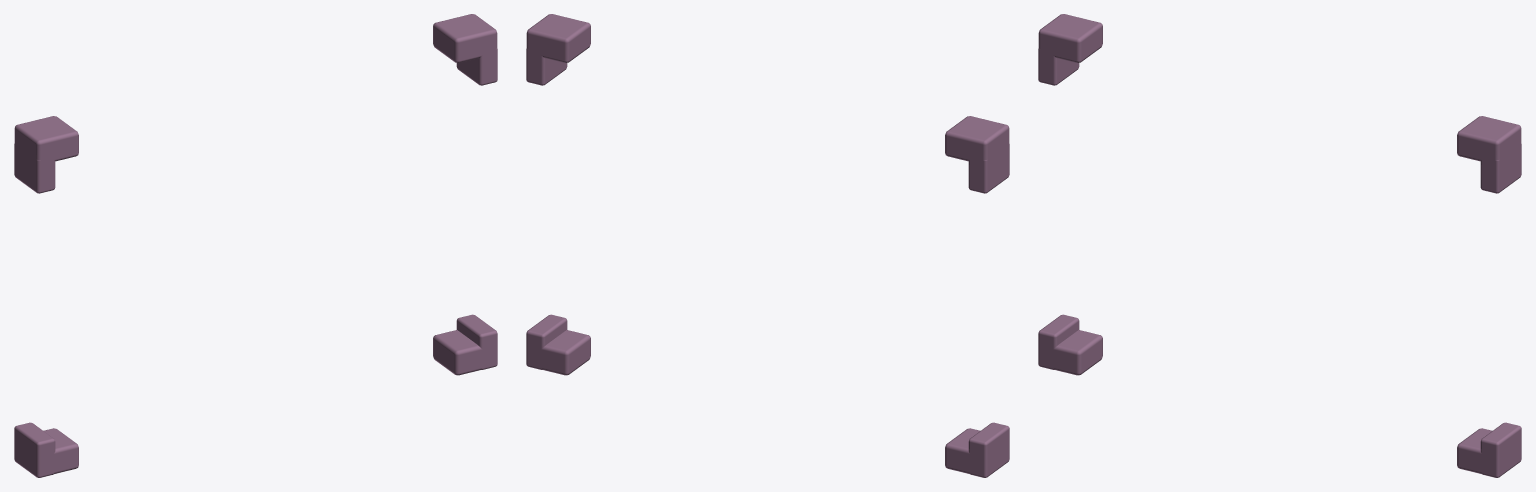
Rendered from museum-conservation-and-art-restoration-museum-conserv-a682cd52.glb.
3 renders of one model, left to right at view 1: azimuth 30°, elevation 25°; view 2: azimuth 150°, elevation 25°; view 3: azimuth 330°, elevation 25°, orthographic.
Parts seen in each view (by area): view 1: museum-conservation-and-art-restoration-fitted-foam-corner-s; view 2: museum-conservation-and-art-restoration-fitted-foam-corner-s; view 3: museum-conservation-and-art-restoration-fitted-foam-corner-s.
Part boxes in pixels (x1,y1,x2,y2): museum-conservation-and-art-restoration-fitted-foam-corner-s: (14,14,497,477); museum-conservation-and-art-restoration-fitted-foam-corner-s: (526,14,1009,477); museum-conservation-and-art-restoration-fitted-foam-corner-s: (1038,14,1521,477).
Size of the model in its own units: 1.73 by 1.21 by 0.1601.
